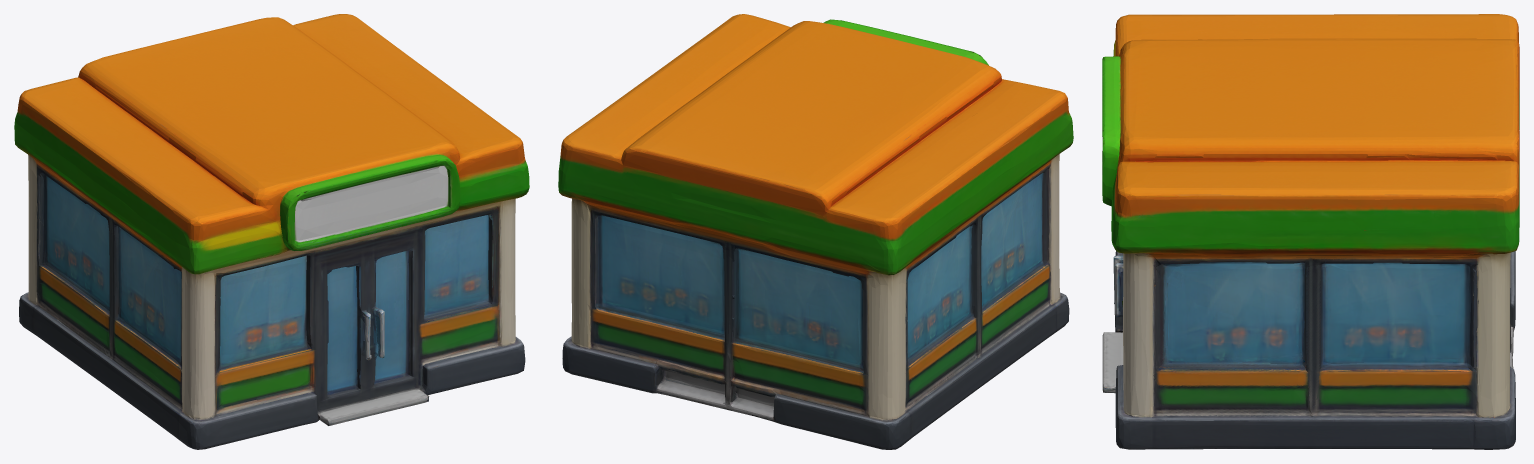
File: convenience_store.glb
3 renders of one model, left to right at view 1: azimuth 30°, elevation 25°; view 2: azimuth 150°, elevation 25°; view 3: azimuth 270°, elevation 25°, orthographic. The views are drawn at different scales.
Visible parts, largest first — view 1: geometry_0; view 2: geometry_0; view 3: geometry_0.
Part boxes in pixels (x1=…): geometry_0: x1=14, y1=14, x2=529, y2=449; geometry_0: x1=558, y1=14, x2=1073, y2=449; geometry_0: x1=1102, y1=14, x2=1519, y2=449.
Size of the model in its own units: 0.4916 by 0.3365 by 0.4689.
1 material, 1 textured.
